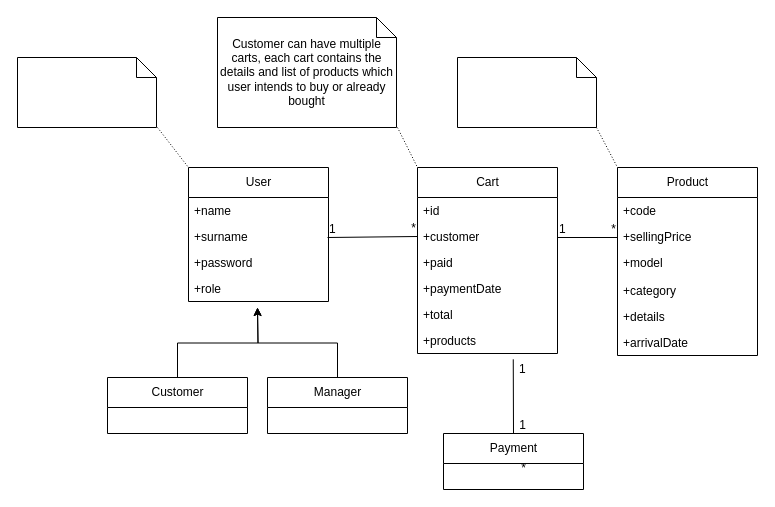
This 775x507 diagram has some shape labels left out. Each missing label, with the centre of its shape:
Only manager can add/delete products: pixel 86 92
Represent an item in the system: pixel 526 92
